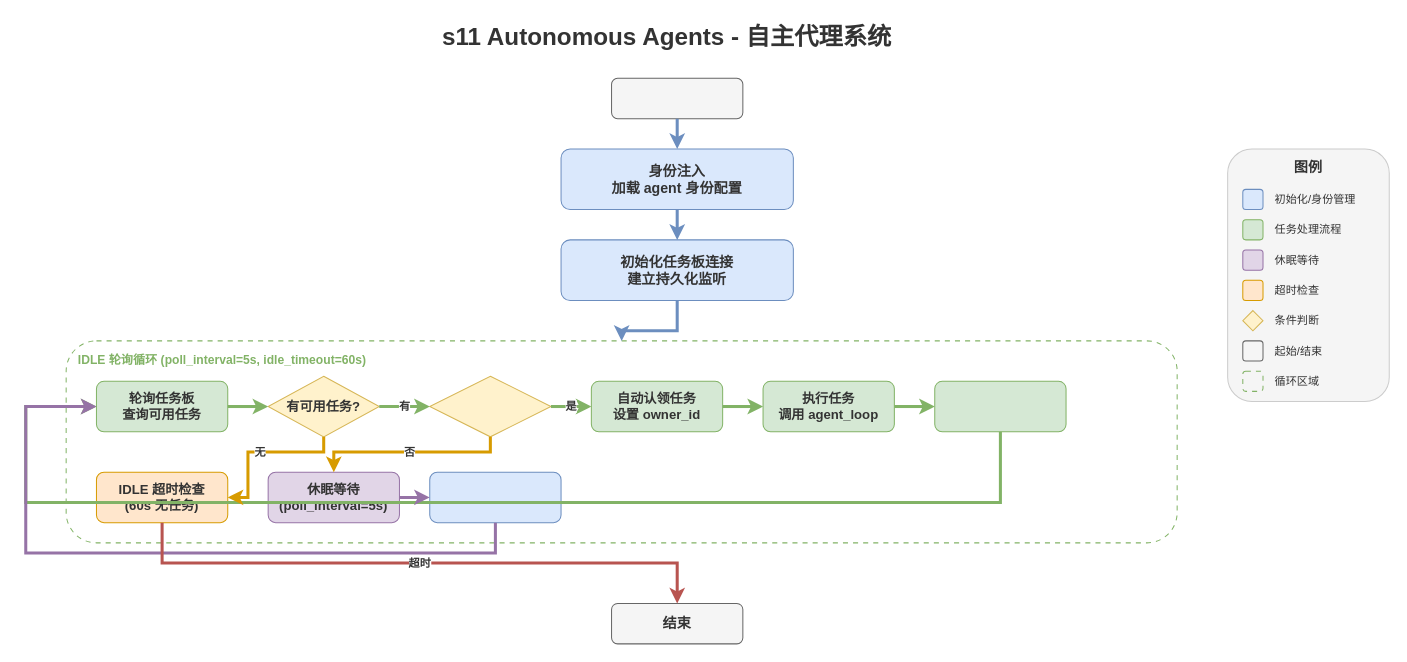
This 1407x662 diagram has some shape labels left out. The box of each missing label's shape, as (x1, y1, x2, y2) in pixels:
可认领? (status=unclaimed): (429, 375, 551, 437)
启动自主代理: (611, 77, 743, 119)
更新任务状态 completed/failed: (934, 380, 1066, 432)
身份重注入 确保上下文一致性: (429, 471, 561, 523)
